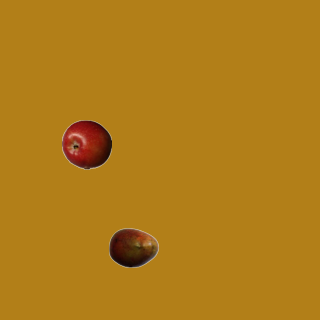Apple Braeburn: (61, 119, 111, 169)
Mango Red: (108, 222, 158, 272)
